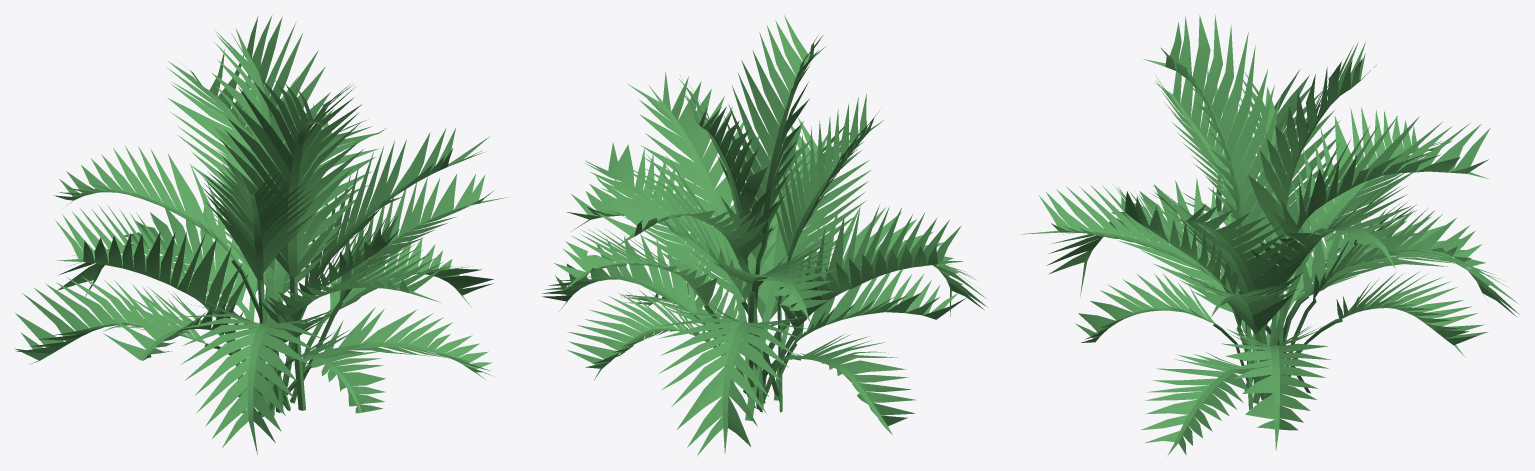
Rendered from plant_furn_A.fbx.
3 renders of one model, left to right at view 1: azimuth 30°, elevation 25°; view 2: azimuth 150°, elevation 25°; view 3: azimuth 270°, elevation 25°, orthographic. The views are drawn at different scales.
Parts seen in each view (by area): view 1: plant_furn_A; view 2: plant_furn_A; view 3: plant_furn_A.
Boxes of the visible parts, x1=… form: plant_furn_A: x1=15, y1=15, x2=508, y2=454; plant_furn_A: x1=542, y1=15, x2=987, y2=456; plant_furn_A: x1=1018, y1=15, x2=1519, y2=456.
Size of the model in its own units: 196 by 156 by 193.
